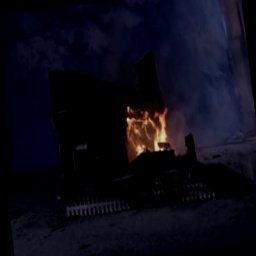fire: (115, 93, 179, 164)
